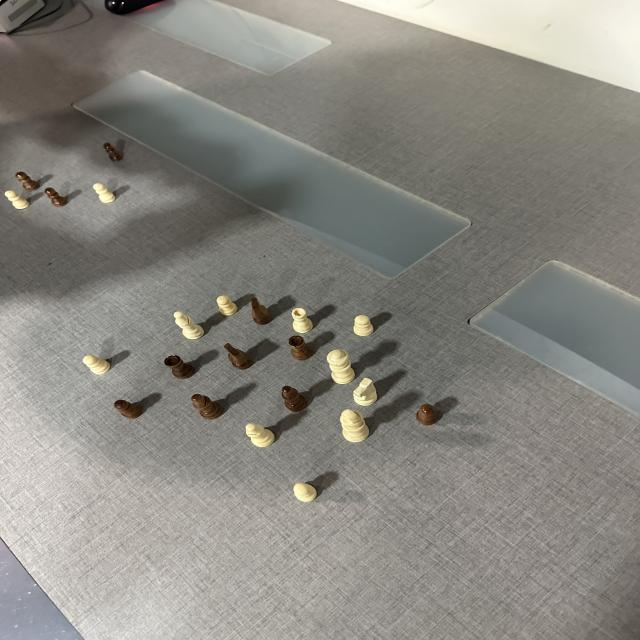Black-Bishop: (192, 394, 224, 421), (281, 386, 308, 412)
Black-Knight: (224, 343, 254, 370), (250, 297, 272, 325)
Black-Pawn: (114, 400, 143, 420), (15, 172, 40, 191), (416, 404, 438, 425), (45, 188, 67, 208), (103, 142, 124, 162)
Black-Rook: (164, 355, 196, 379), (288, 335, 312, 361)
White-Bishop: (174, 311, 205, 340), (246, 423, 275, 447)
White-King: (340, 409, 370, 442)
White-Knight: (353, 378, 377, 406)
White-Pawn: (82, 355, 110, 375), (4, 190, 30, 210), (216, 295, 239, 316), (293, 482, 317, 502), (93, 183, 116, 203), (354, 315, 374, 336)
White-Queen: (326, 350, 356, 384)
White-Rook: (291, 308, 313, 333)
